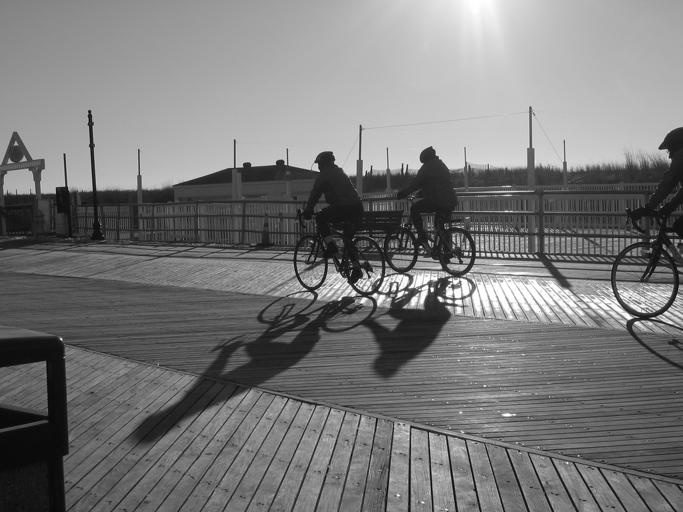non-vehicle: (291, 205, 386, 297), (609, 200, 682, 319), (382, 187, 476, 277)
